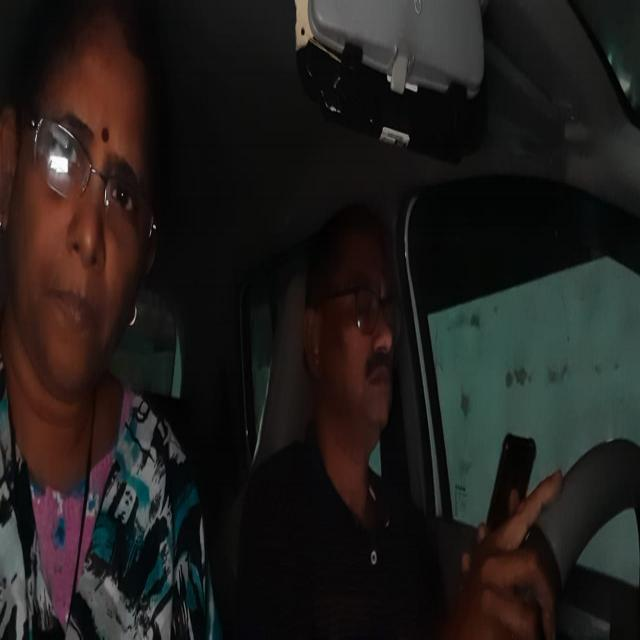mobile: (474, 416, 542, 550)
person: (4, 10, 165, 418), (306, 212, 407, 462)
